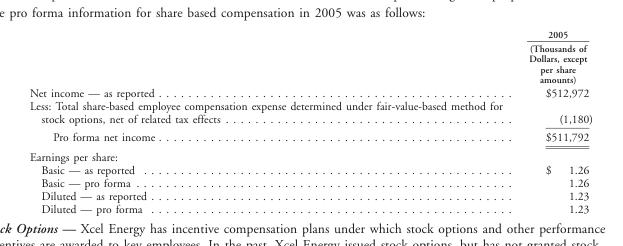table: (28, 29, 592, 215)
table column: (28, 29, 515, 215), (515, 29, 592, 215)
table column header: (28, 29, 592, 85)
table projected row header: (28, 147, 592, 163)
table row: (28, 29, 592, 85), (28, 99, 592, 127), (28, 127, 592, 147), (28, 147, 592, 163), (28, 85, 592, 99), (28, 163, 592, 176), (28, 176, 592, 189), (28, 189, 592, 202), (28, 202, 592, 215)
